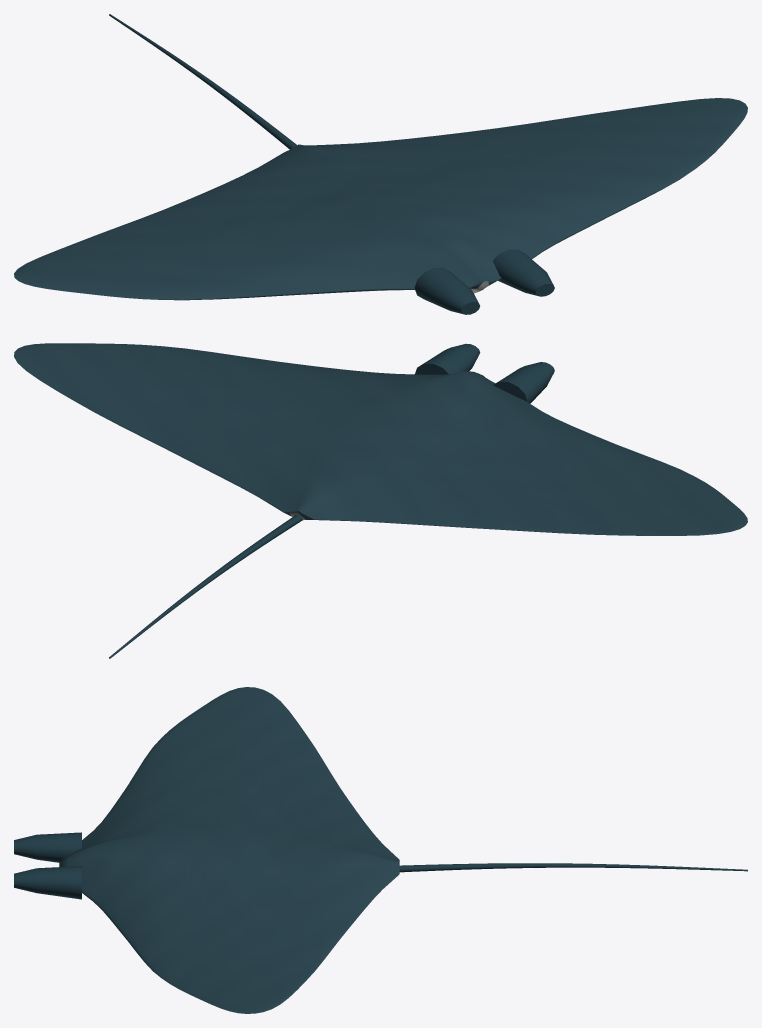
Rendered from manta.glb.
The picture shows the model from 3 angles, top to bottom: view 1: azimuth 30°, elevation 25°; view 2: azimuth 150°, elevation 25°; view 3: azimuth 270°, elevation 25°; orthographic projection. The views are drawn at different scales.
Parts seen in each view (by area): view 1: Pelagic.manta.Surface; view 2: Pelagic.manta.Surface; view 3: Pelagic.manta.Surface.
Part boxes in pixels (bbox=[...]): Pelagic.manta.Surface: bbox=[14, 14, 747, 314]; Pelagic.manta.Surface: bbox=[14, 343, 747, 658]; Pelagic.manta.Surface: bbox=[14, 687, 747, 1013].
Bounding box in the file's own units: 6.82 × 0.5396 × 6.47.
